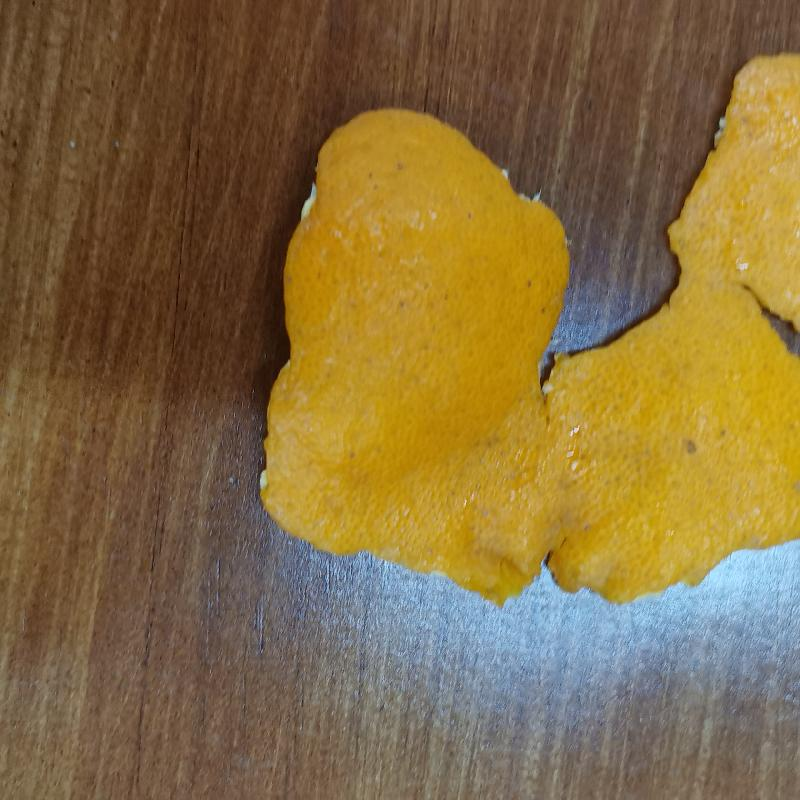orange: (263, 50, 800, 605)
